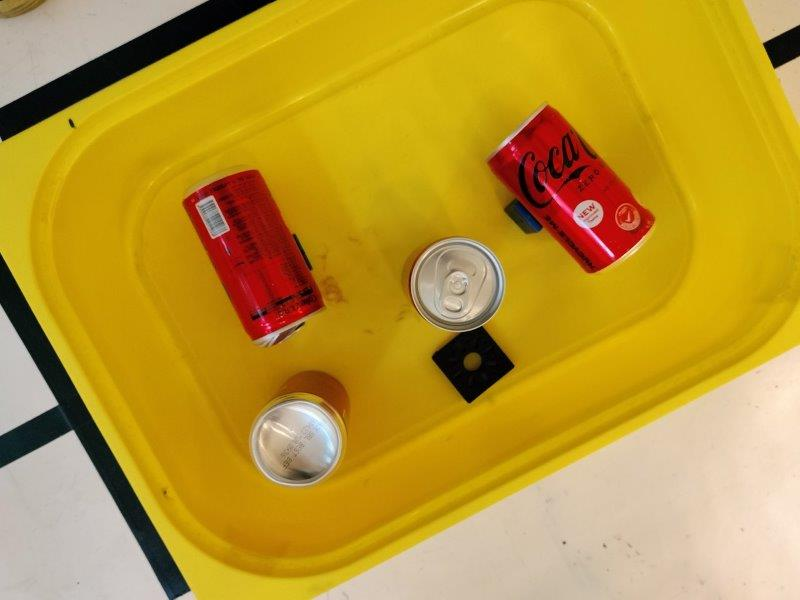Coke: (487, 102, 660, 275), (183, 168, 326, 344), (250, 371, 349, 484), (400, 237, 503, 332)
